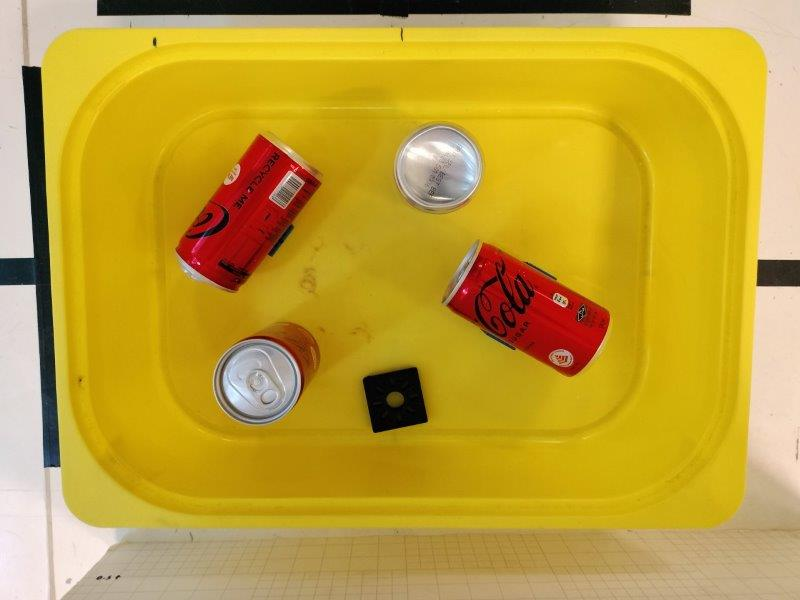Coke: (174, 133, 326, 295), (441, 240, 613, 378), (212, 320, 320, 425), (391, 121, 487, 214)
